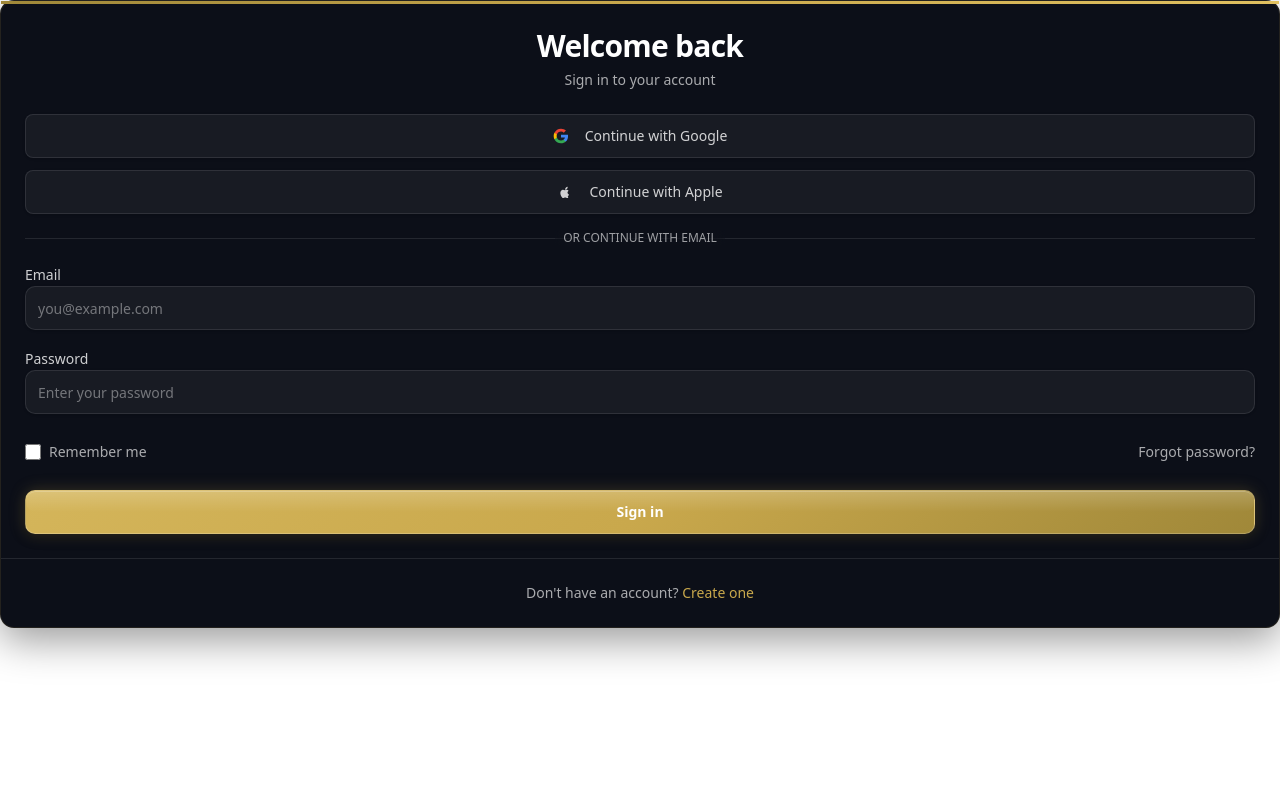
Scenario: LoginForm › shows validation error for invalid email
Type "not-an-email" into the field labelled "Email". click: point(640, 308)
box: x1=25 y1=286 x2=1255 y2=330
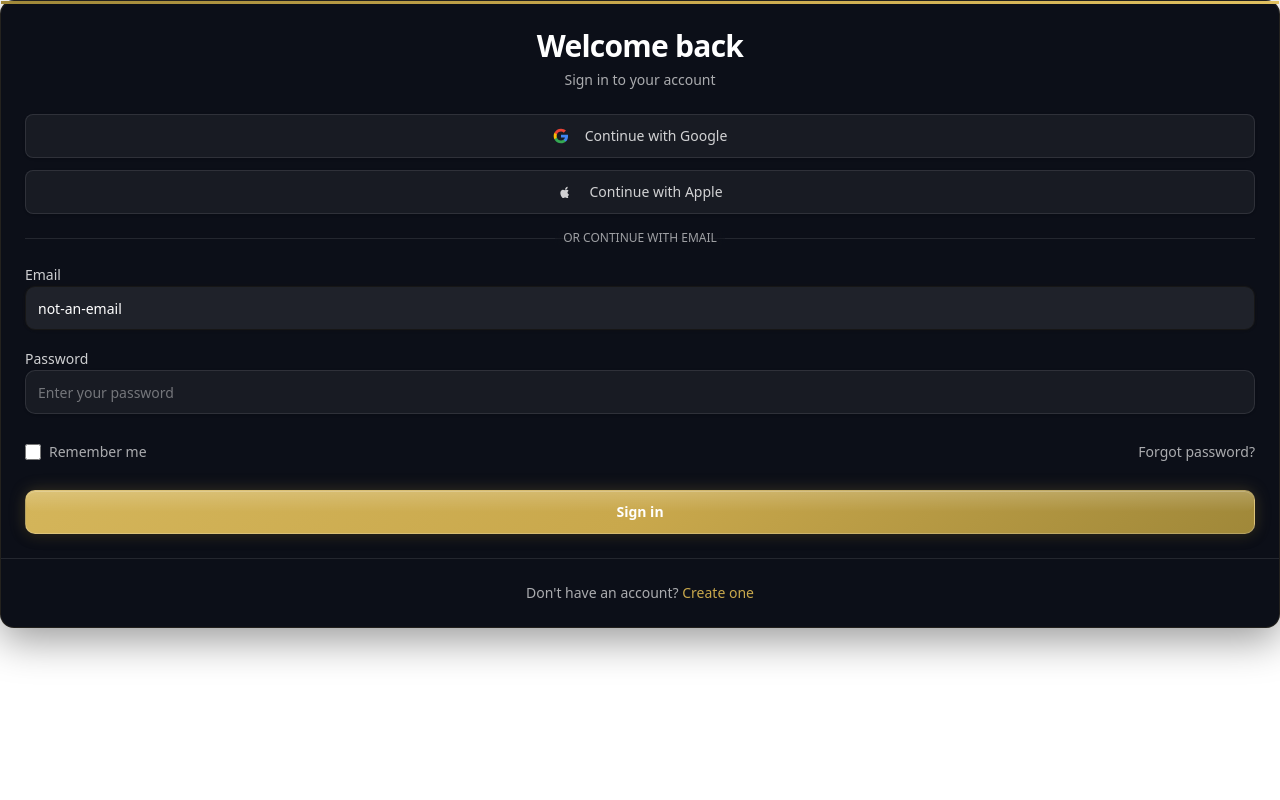
Type "Password123!" into the password field labelled "Password". click: point(640, 392)
box: x1=25 y1=370 x2=1255 y2=414
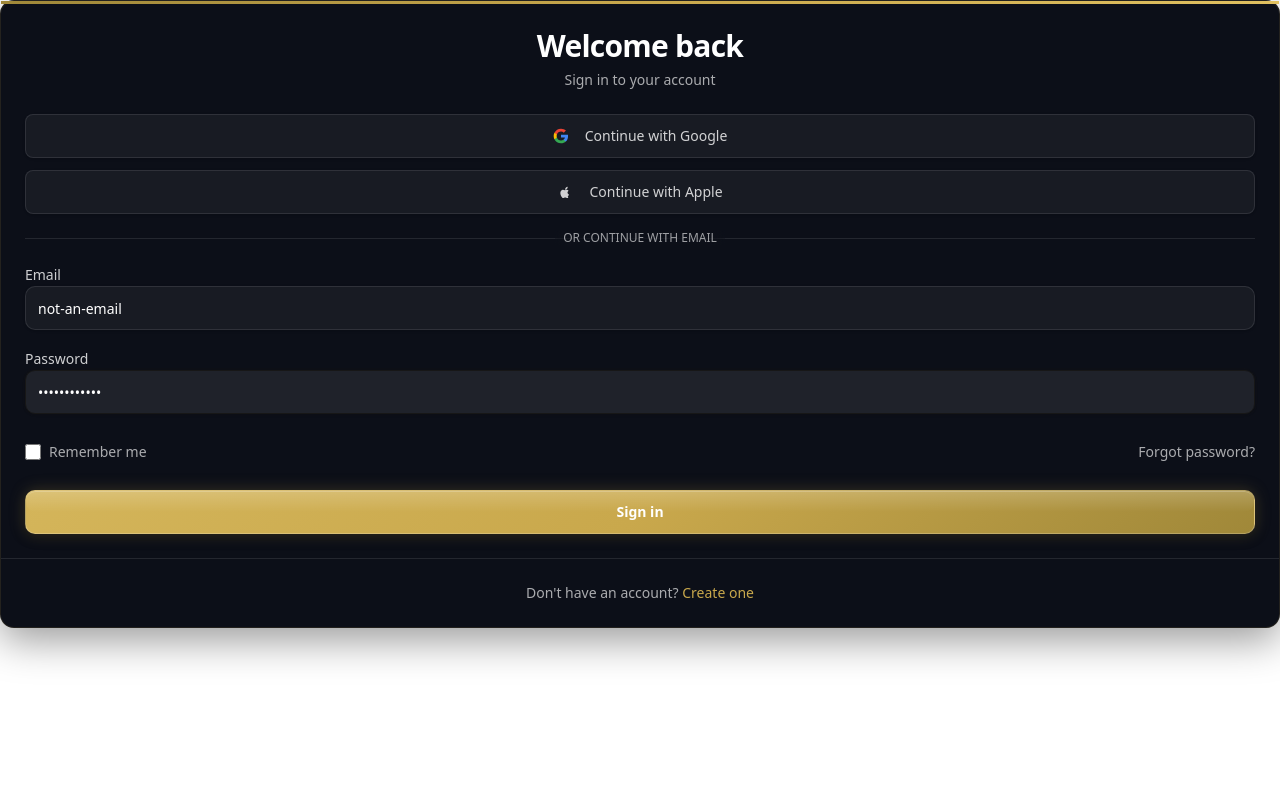
Click the button "Sign in". click: point(640, 512)
box: x1=25 y1=490 x2=1255 y2=534
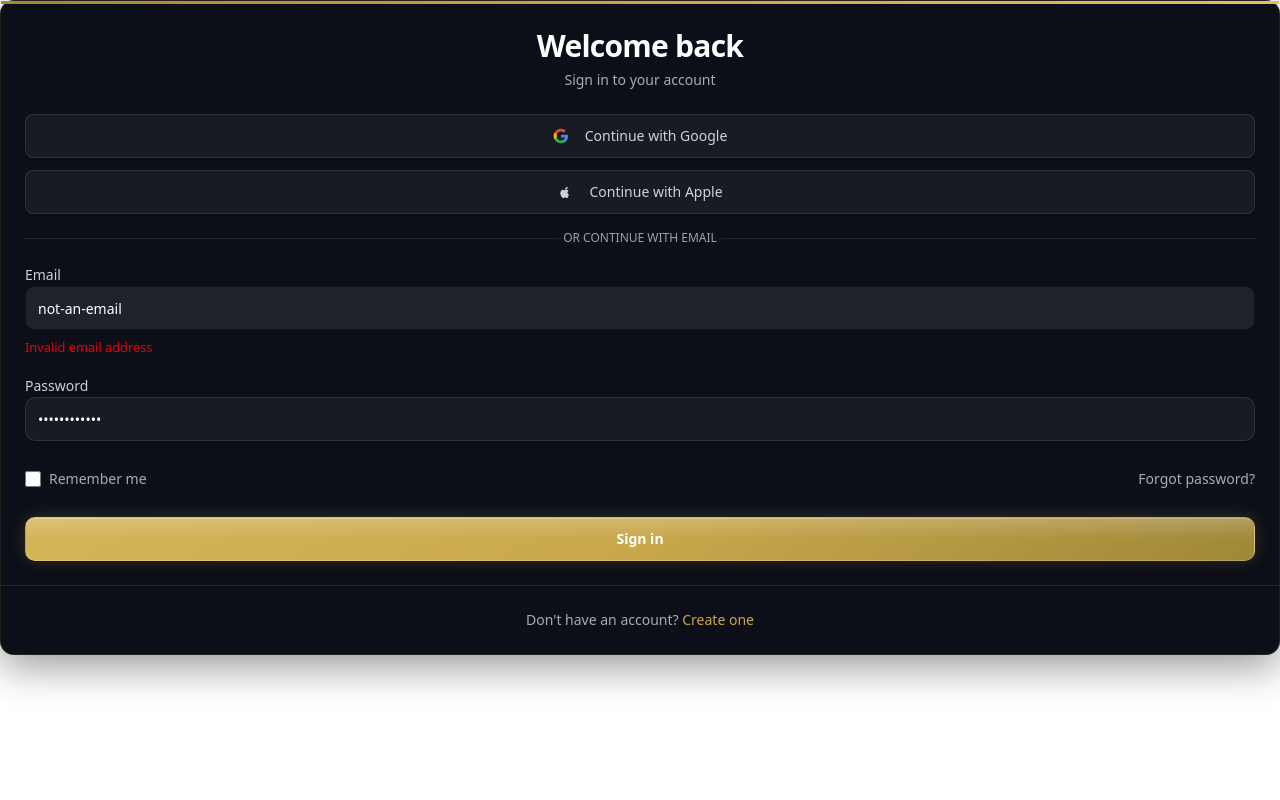
Expected: the text "Invalid email address" is shown, x1=25 y1=338 x2=152 y2=356
